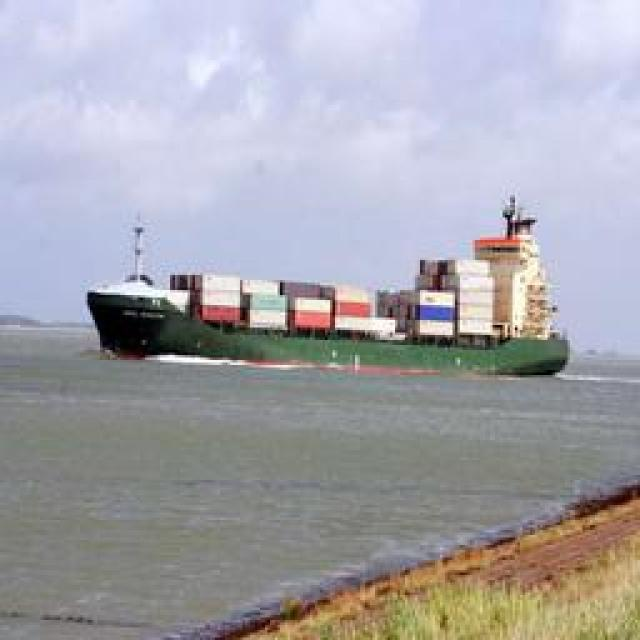CIV_Ship: (85, 221, 565, 359)
